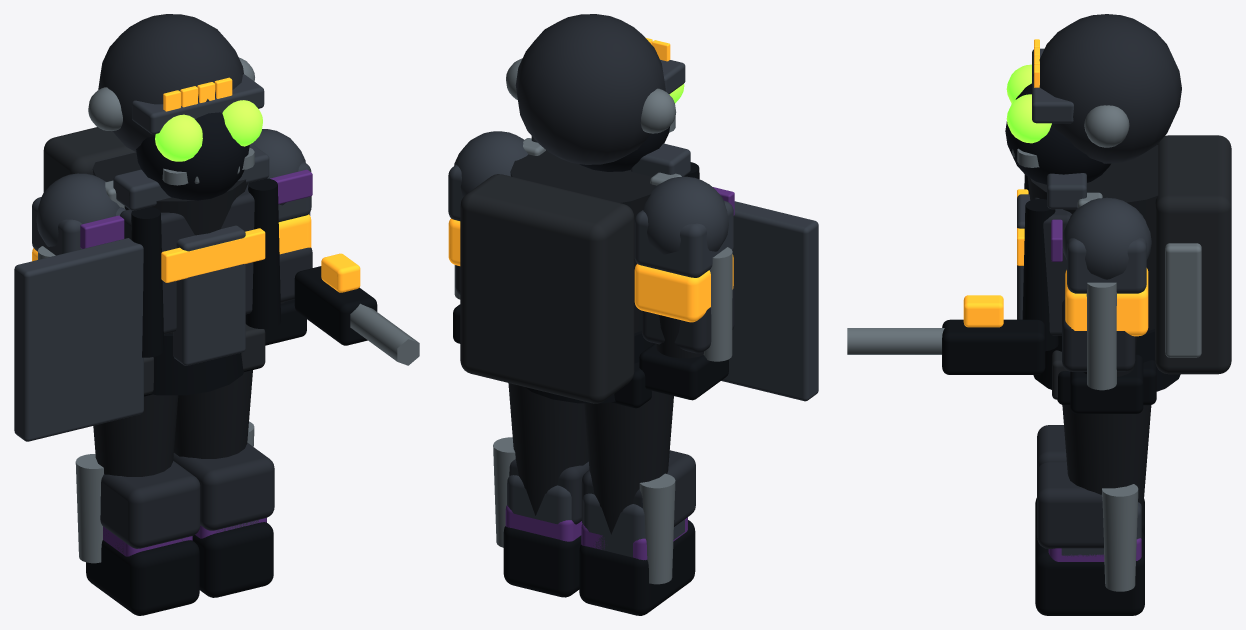
Rendered from assault_l04.glb.
The picture shows the model from 3 angles, left to right: view 1: azimuth 30°, elevation 25°; view 2: azimuth 150°, elevation 25°; view 3: azimuth 270°, elevation 25°; orthographic projection. The views are drawn at different scales.
Parts seen in each view (by area): view 1: forearm_shield, shaped_knee_guard (×2), boot (×2), trouser (×2), rounded_helmet, front_plate, vest_tether (×2), shoulder_joint (×2), enclosed_mask, carbine_body, segmented_vest, waist_flex (+18 smaller); view 2: field_pack, rounded_helmet, forearm_shield, trouser (×2), boot (×2), shoulder_joint (×2), shin_frame (×2), body, knee_plate (×2), rank_stripe (×2), shoulder_plate (×2), glove (+11 smaller); view 3: rounded_helmet, field_pack, trouser, shaped_knee_guard (×2), boot, carbine_body, shoulder_joint, spare_magazine, body, shin_frame, forearm_seam, vest_tether (+18 smaller).
Part boxes in pixels (x1,y1,x2,y2): forearm_shield: [14, 238, 143, 441]; shaped_knee_guard (×2): [100, 443, 274, 548]; boot (×2): [86, 522, 273, 615]; trouser (×2): [93, 370, 252, 476]; rounded_helmet: [98, 14, 243, 152]; front_plate: [173, 225, 245, 365]; vest_tether (×2): [131, 178, 280, 357]; shoulder_joint (×2): [36, 129, 305, 246]; enclosed_mask: [136, 112, 249, 200]; carbine_body: [294, 266, 377, 345]; segmented_vest: [120, 183, 254, 334]; waist_flex: [150, 334, 244, 395]; field_pack: [460, 174, 634, 403]; rounded_helmet: [515, 14, 665, 164]; forearm_shield: [721, 201, 818, 401]; trouser (×2): [508, 383, 673, 534]; boot (×2): [503, 520, 695, 615]; shoulder_joint (×2): [454, 131, 728, 254]; shin_frame (×2): [493, 437, 675, 584]; body: [510, 151, 656, 333]; knee_plate (×2): [507, 475, 684, 557]; rank_stripe (×2): [448, 218, 733, 322]; shoulder_plate (×2): [448, 164, 733, 277]; glove: [639, 343, 728, 400]; rounded_helmet: [1033, 14, 1181, 163]; field_pack: [1155, 135, 1231, 374]; trouser: [1062, 405, 1151, 525]; shaped_knee_guard (×2): [1037, 425, 1103, 548]; boot: [1035, 531, 1144, 615]; carbine_body: [942, 319, 1045, 374]; shoulder_joint: [1062, 197, 1151, 279]; spare_magazine: [1165, 243, 1201, 357]; body: [1027, 145, 1158, 331]; shin_frame: [1102, 484, 1138, 591]; forearm_seam: [1086, 282, 1116, 390]; vest_tether: [1022, 199, 1058, 351].
Size of the model in its own units: 1.12 by 1.87 by 1.16.
